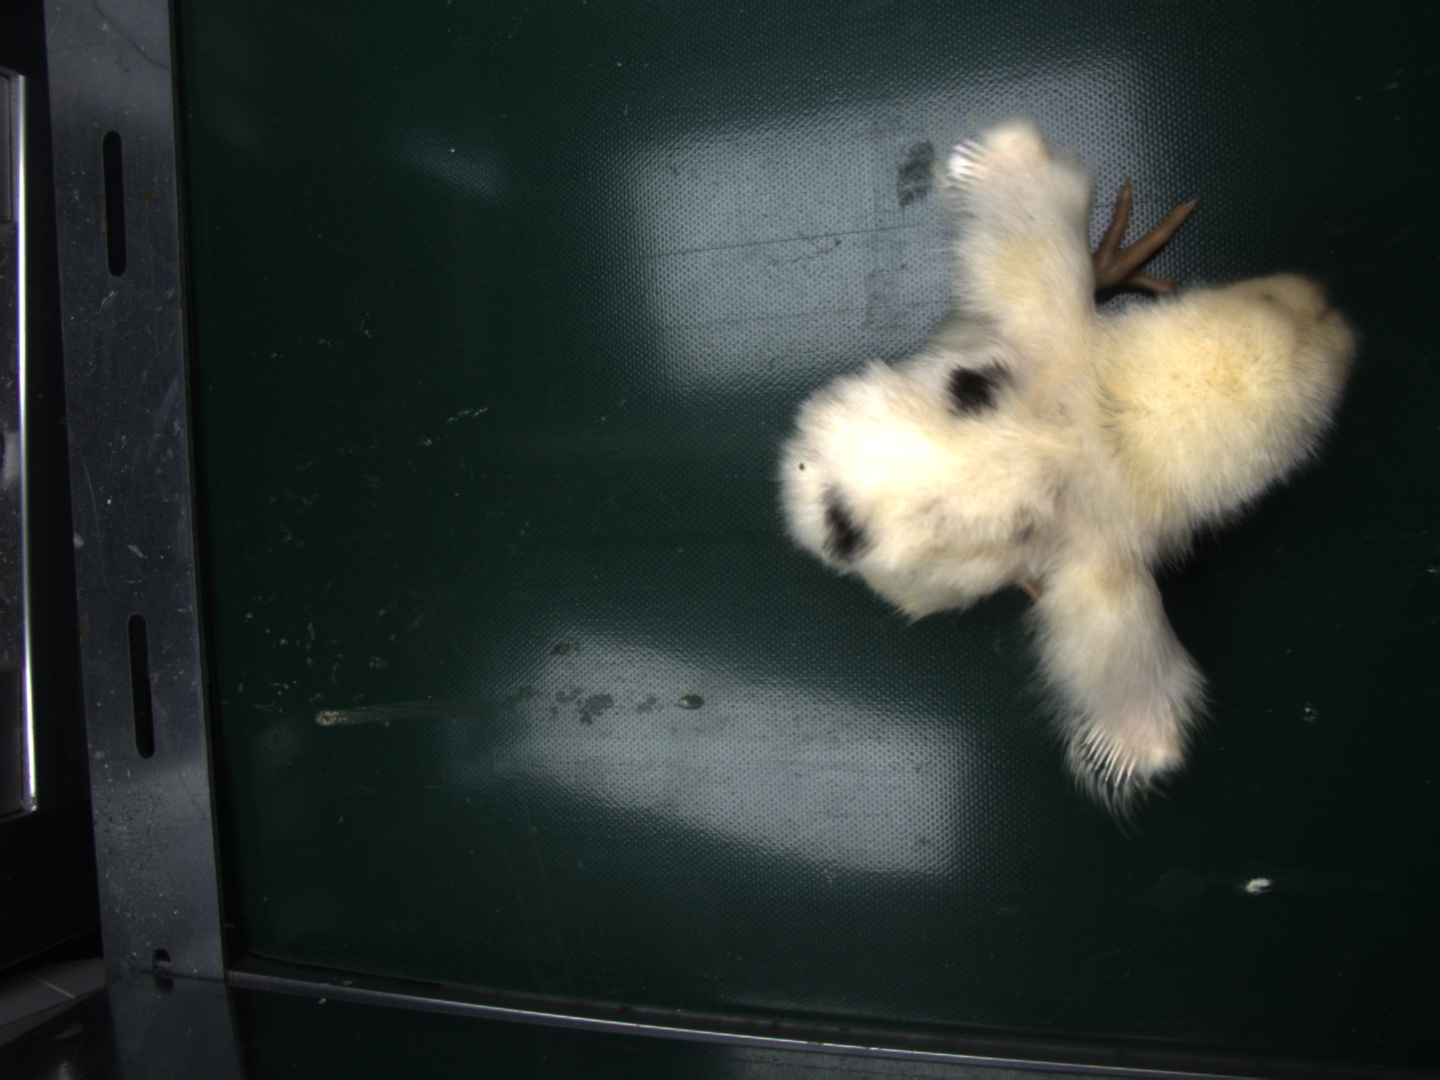male: (1073, 720, 1143, 785)
